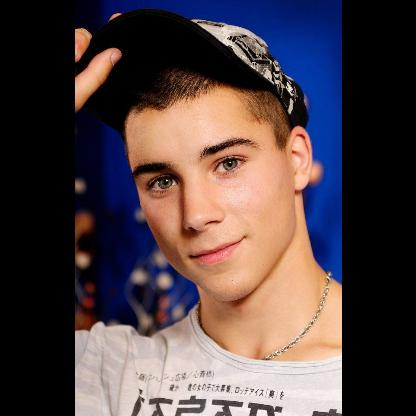Male: (122, 88, 312, 304)
